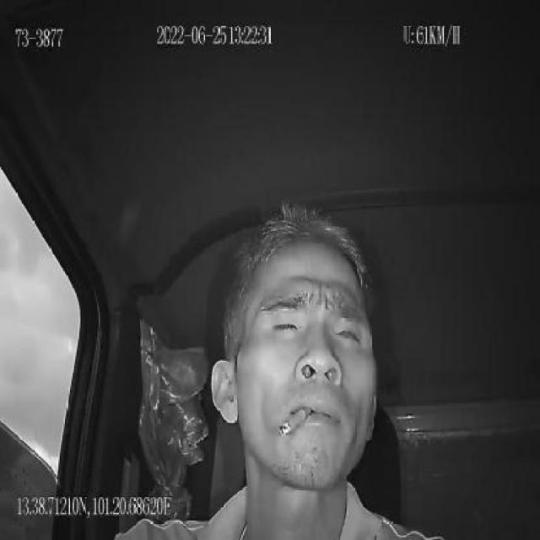smoking: (279, 406, 312, 438)
